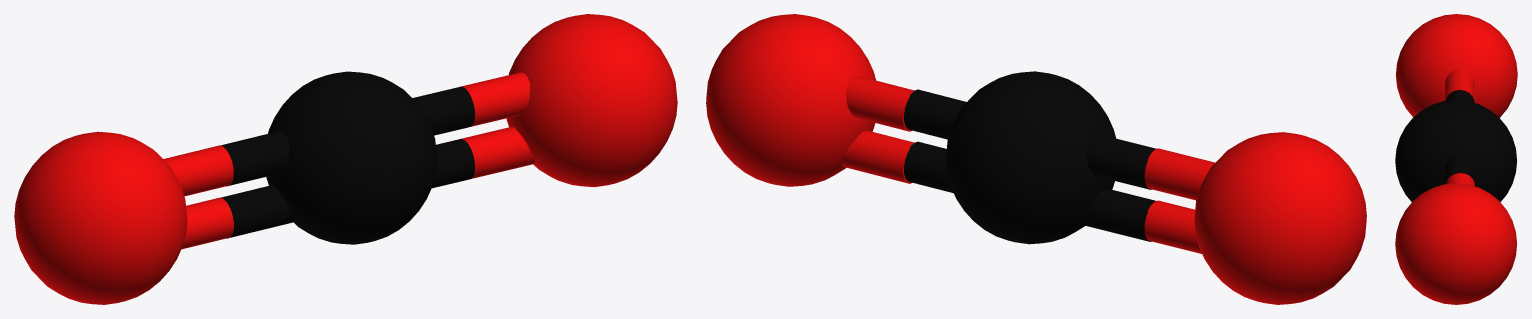
Rendered from CarbonDioxide.FBX.
3 views of the same model, side by side, from view 1: azimuth 30°, elevation 25°; view 2: azimuth 150°, elevation 25°; view 3: azimuth 270°, elevation 25° (orthographic). The views are drawn at different scales.
Visible parts, largest first — view 1: Sphere019, Sphere020, Sphere021, Cylinder046, Cylinder043, Cylinder044, Cylinder047, Cylinder040, Cylinder042, Cylinder045, Cylinder041; view 2: Sphere019, Sphere020, Sphere021, Cylinder046, Cylinder043, Cylinder044, Cylinder040, Cylinder047, Cylinder045, Cylinder042, Cylinder041; view 3: Sphere021, Sphere019, Sphere020, Cylinder047, Cylinder042, Cylinder043, Cylinder046.
Part boxes in pixels (bbox=[...]): Sphere019: bbox=[14, 131, 187, 304]; Sphere020: bbox=[266, 71, 437, 244]; Sphere021: bbox=[506, 14, 677, 187]; Cylinder046: bbox=[221, 130, 289, 186]; Cylinder043: bbox=[461, 72, 530, 126]; Cylinder044: bbox=[221, 185, 295, 238]; Cylinder047: bbox=[163, 145, 233, 196]; Cylinder040: bbox=[461, 126, 534, 178]; Cylinder042: bbox=[412, 86, 474, 135]; Cylinder045: bbox=[182, 197, 233, 249]; Cylinder041: bbox=[432, 139, 474, 188]; Sphere019: bbox=[1194, 132, 1366, 304]; Sphere020: bbox=[946, 71, 1115, 244]; Sphere021: bbox=[706, 14, 875, 186]; Cylinder046: bbox=[1086, 134, 1156, 189]; Cylinder043: bbox=[846, 76, 914, 131]; Cylinder044: bbox=[1081, 188, 1155, 241]; Cylinder040: bbox=[841, 130, 914, 183]; Cylinder047: bbox=[1144, 148, 1214, 200]; Cylinder045: bbox=[1144, 200, 1201, 253]; Cylinder042: bbox=[904, 89, 966, 139]; Cylinder041: bbox=[904, 141, 953, 193]; Sphere021: bbox=[1395, 183, 1516, 304]; Sphere019: bbox=[1396, 14, 1517, 117]; Sphere020: bbox=[1395, 100, 1516, 201]; Cylinder047: bbox=[1445, 69, 1474, 100]; Cylinder042: bbox=[1444, 154, 1474, 184]; Cylinder043: bbox=[1446, 173, 1474, 186]; Cylinder046: bbox=[1445, 90, 1474, 102].
Size of the model in its own units: 84.69 by 20.05 by 19.96.
